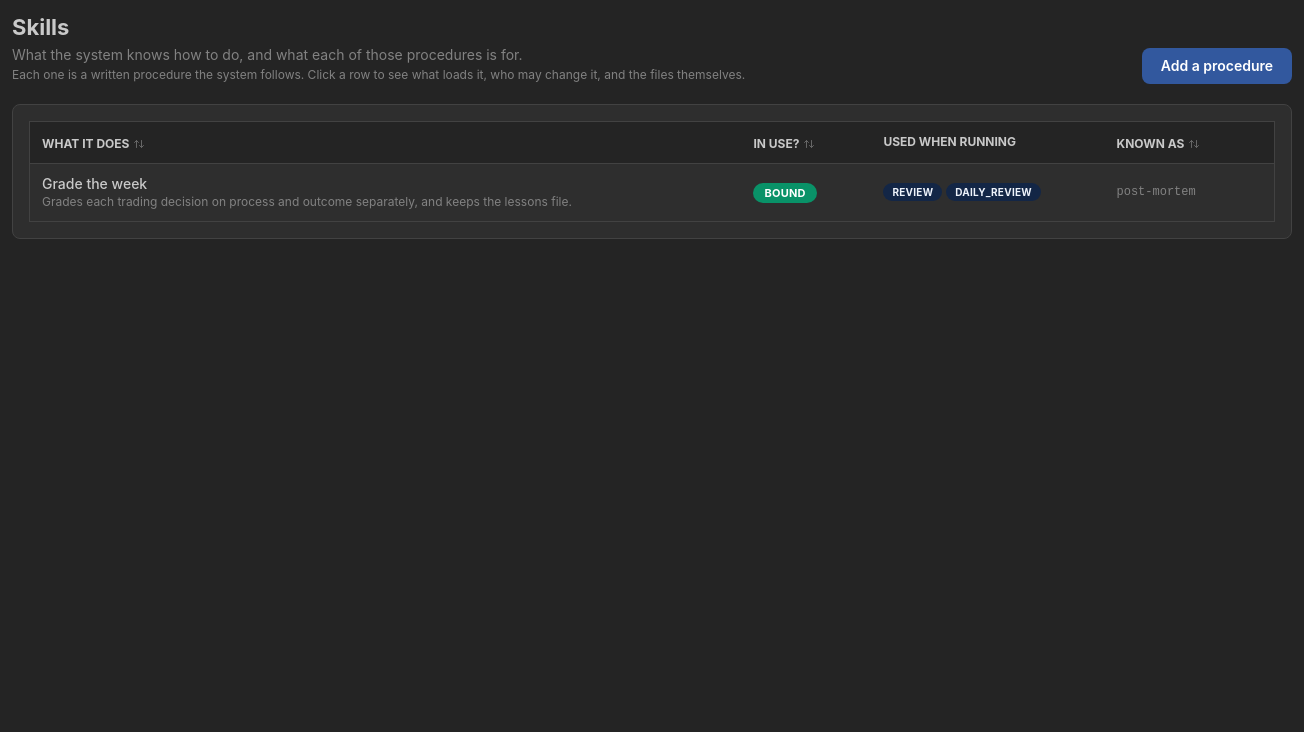
Test: SkillsPage checks run as jobs › offers cancel only while a check is running, and says when it was stopped
Click the text "Grade the week".
click(95, 183)  # box [42, 175, 147, 192]
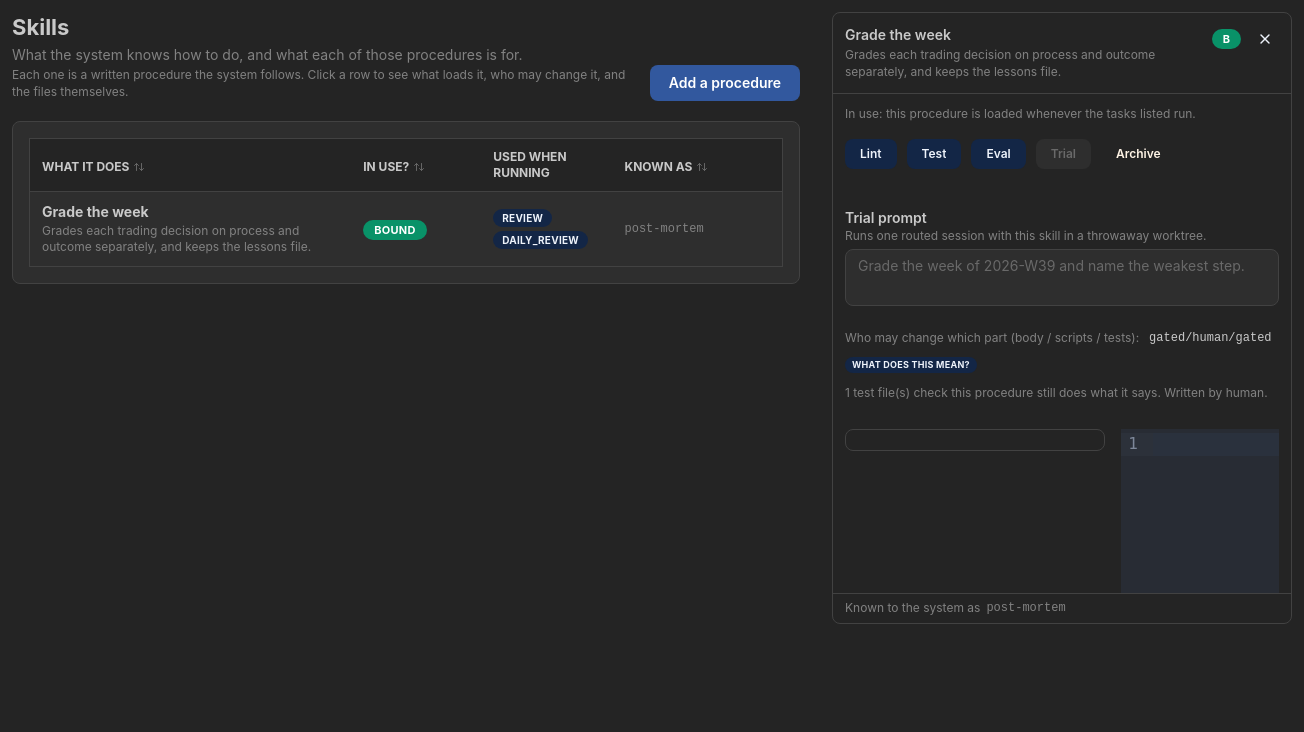
Check: the button "Cancel" is not shown
Click the button "Eval".
click(999, 154)  # box [971, 139, 1026, 169]
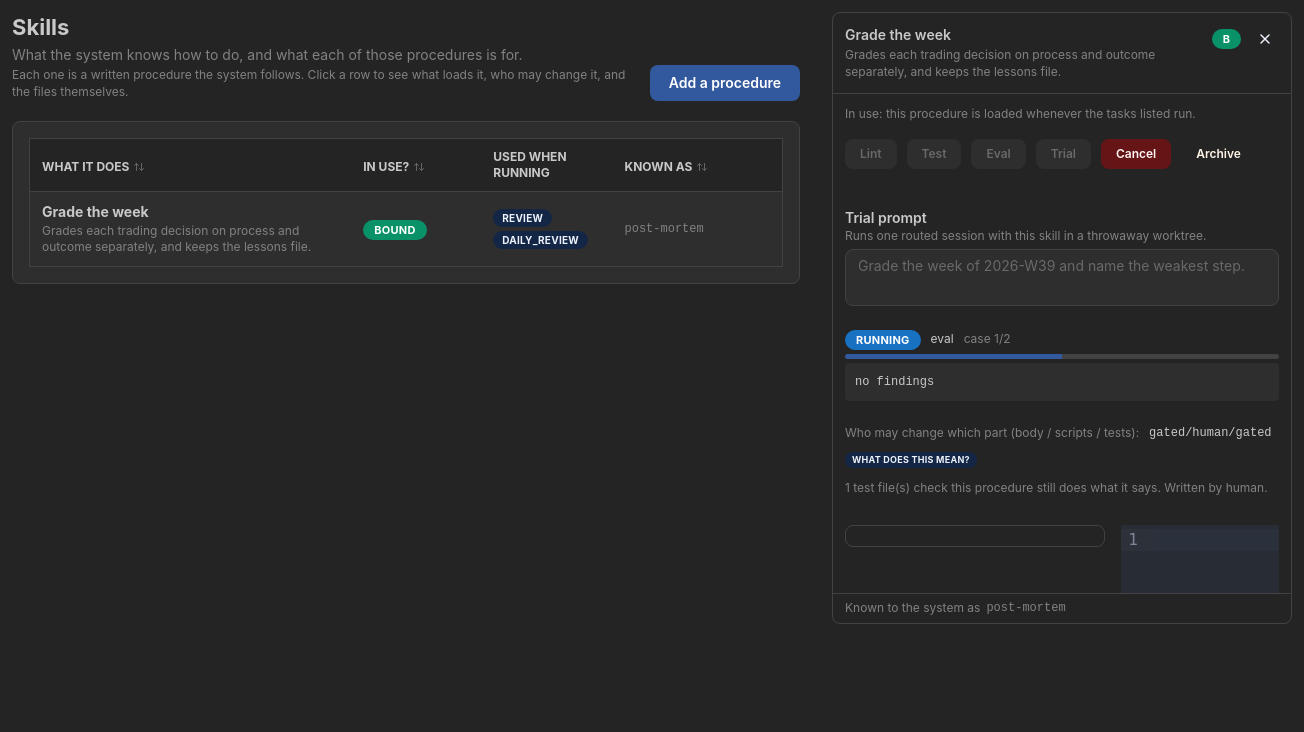
Click the button "Cancel".
click(1136, 154)  # box [1101, 139, 1171, 169]
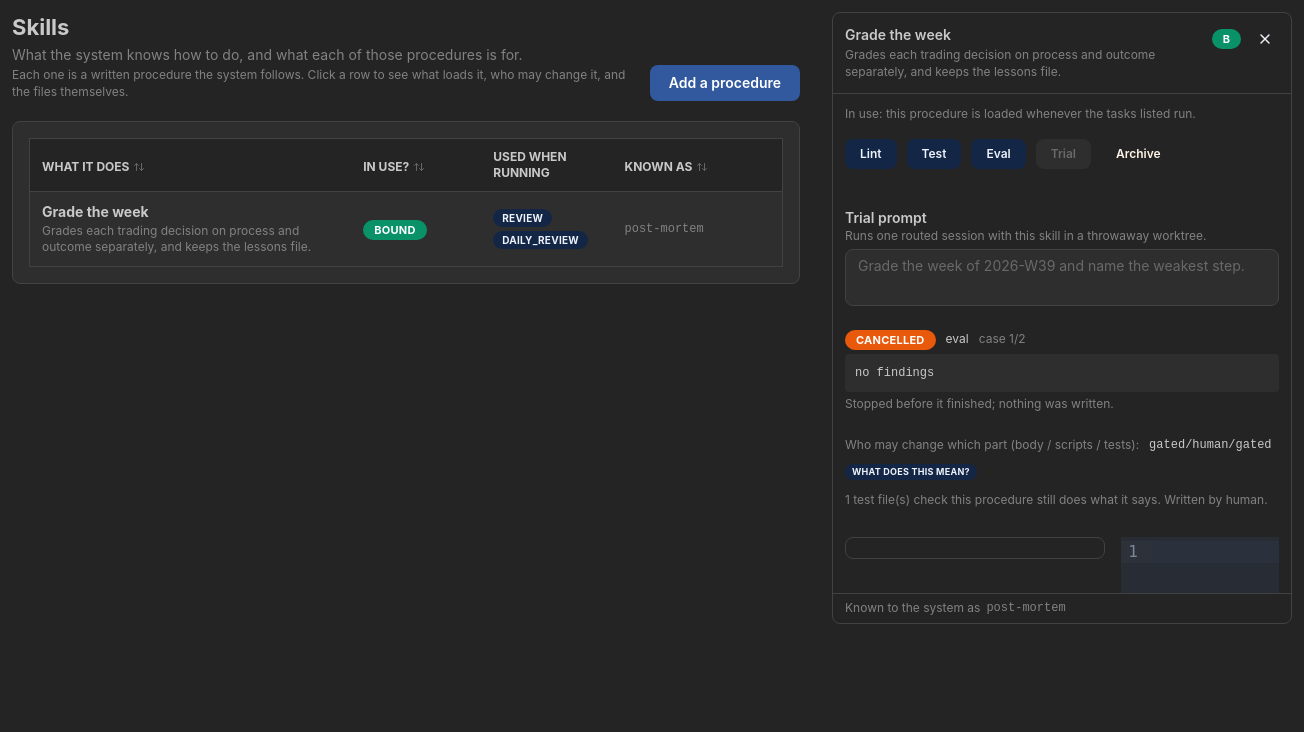
Check: the text "Stopped before it finished; nothing was written." is shown, box [845, 396, 1114, 412]
